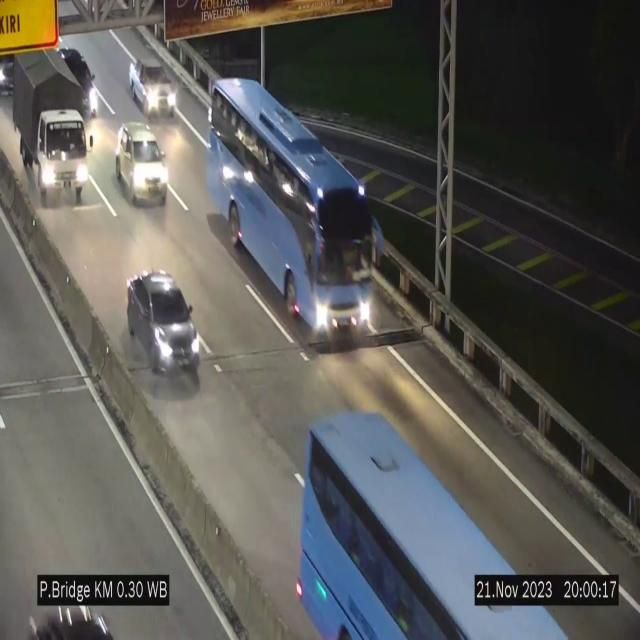Bus: (286, 372, 570, 640), (206, 72, 376, 339)
Car: (128, 272, 200, 382), (116, 121, 168, 205), (128, 58, 176, 117)
Truck: (2, 44, 94, 206)
